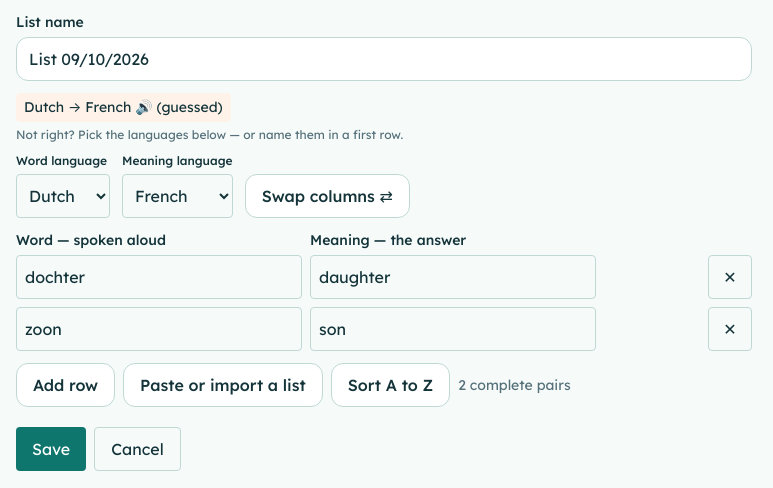
Test: typing pairs › deletes a row
Click the button named "delete row": (730, 277) [708,255,752,299]
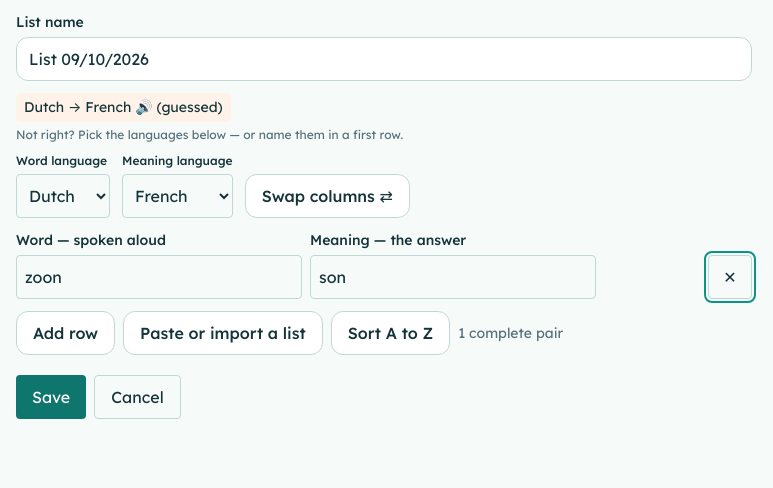
Expected: the field showing "daughter" is not shown
Result: the field showing "zoon" is shown at [16,255,302,299]
